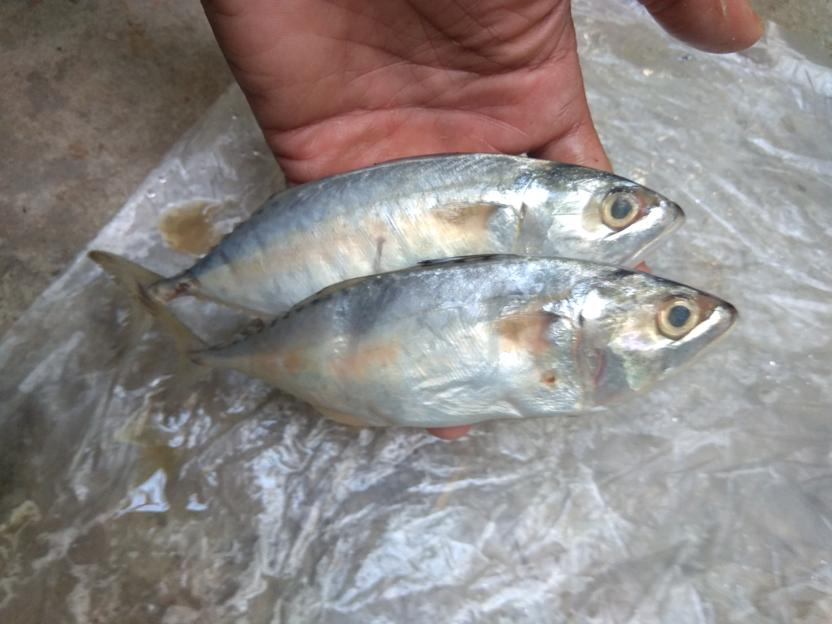Fish head: (581, 271, 740, 413), (527, 156, 685, 270)
Fish tail: (133, 279, 221, 420), (84, 248, 164, 365)
